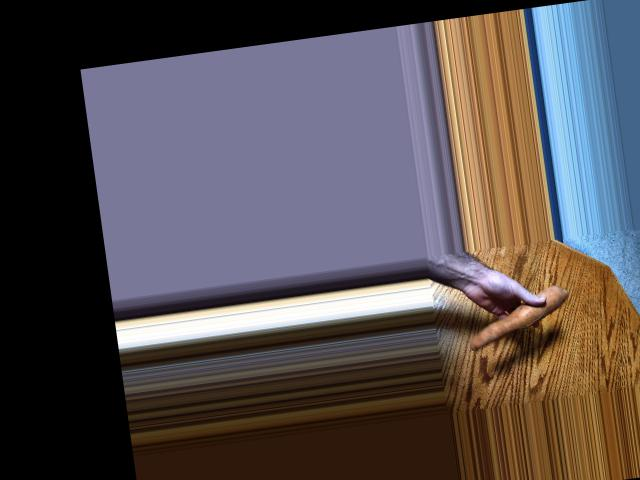sweet_potato: (464, 295, 576, 344)
